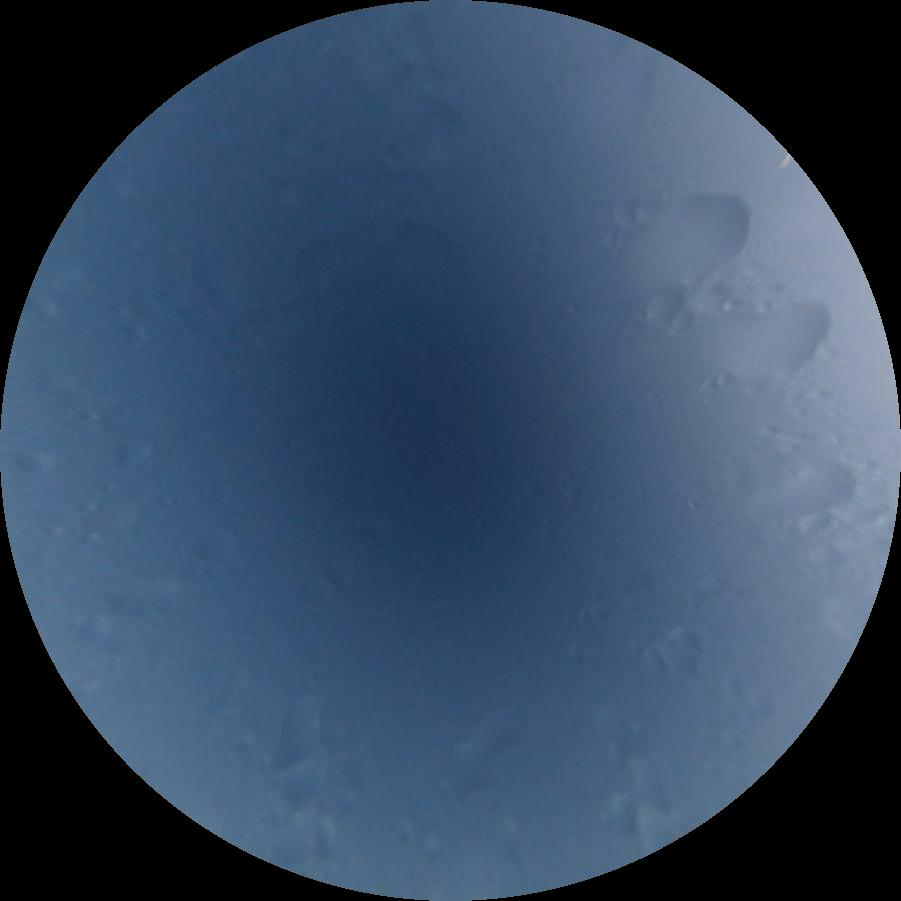contrail young: (777, 152, 795, 174)
